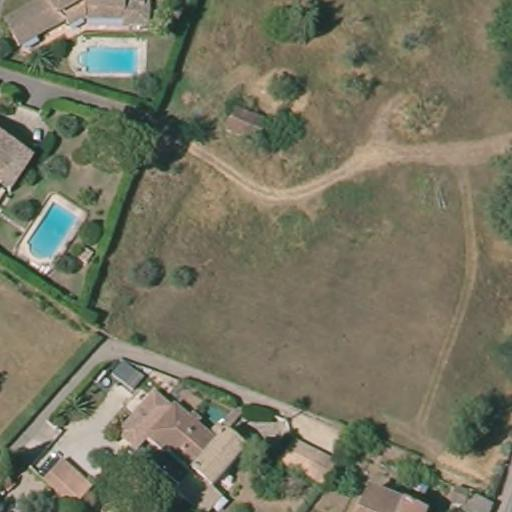pool: (21, 197, 80, 266), (76, 38, 139, 78)
